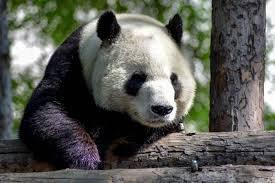bear: (20, 11, 197, 169)
